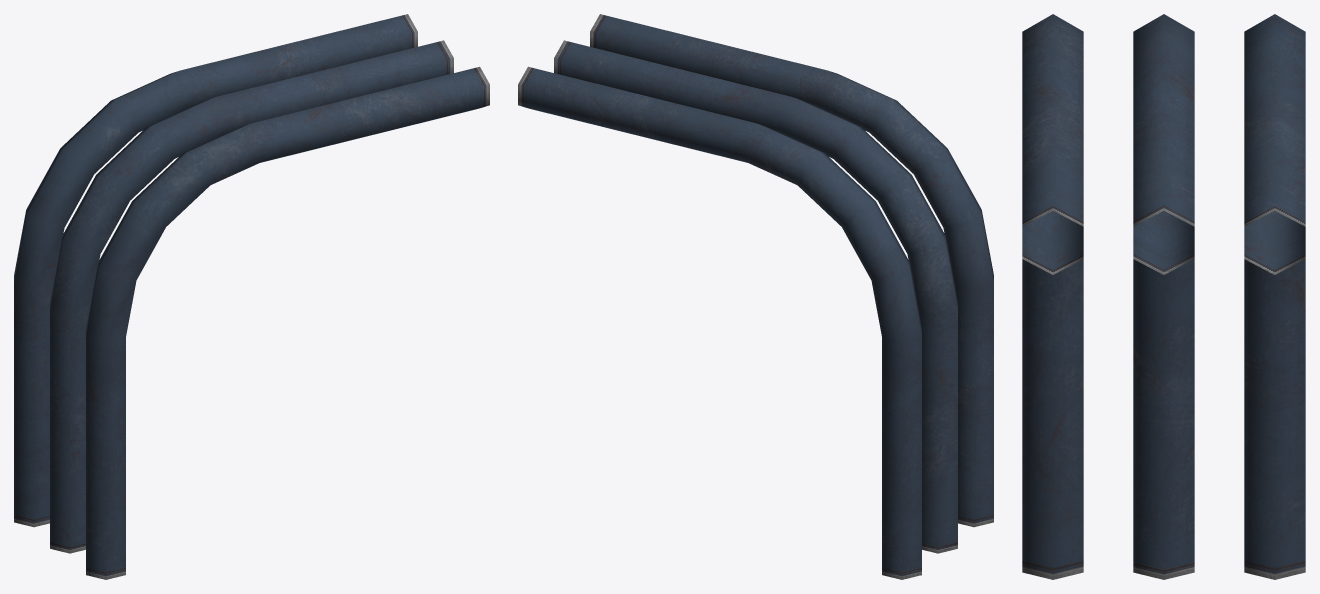
File: Pipe3_Courner4_L1.fbx
3 views of the same model, side by side, from view 1: azimuth 30°, elevation 25°; view 2: azimuth 150°, elevation 25°; view 3: azimuth 270°, elevation 25° (orthographic). The views are drawn at different scales.
Visible parts, largest first — view 1: PIpe3_Courner4_L1; view 2: PIpe3_Courner4_L1; view 3: PIpe3_Courner4_L1.
Part boxes in pixels (left/top/right/bottom): PIpe3_Courner4_L1: left=14, top=14, right=489, bottom=579; PIpe3_Courner4_L1: left=518, top=14, right=993, bottom=579; PIpe3_Courner4_L1: left=1022, top=14, right=1305, bottom=579.
Size of the model in its own units: 105 by 105 by 42.56.
